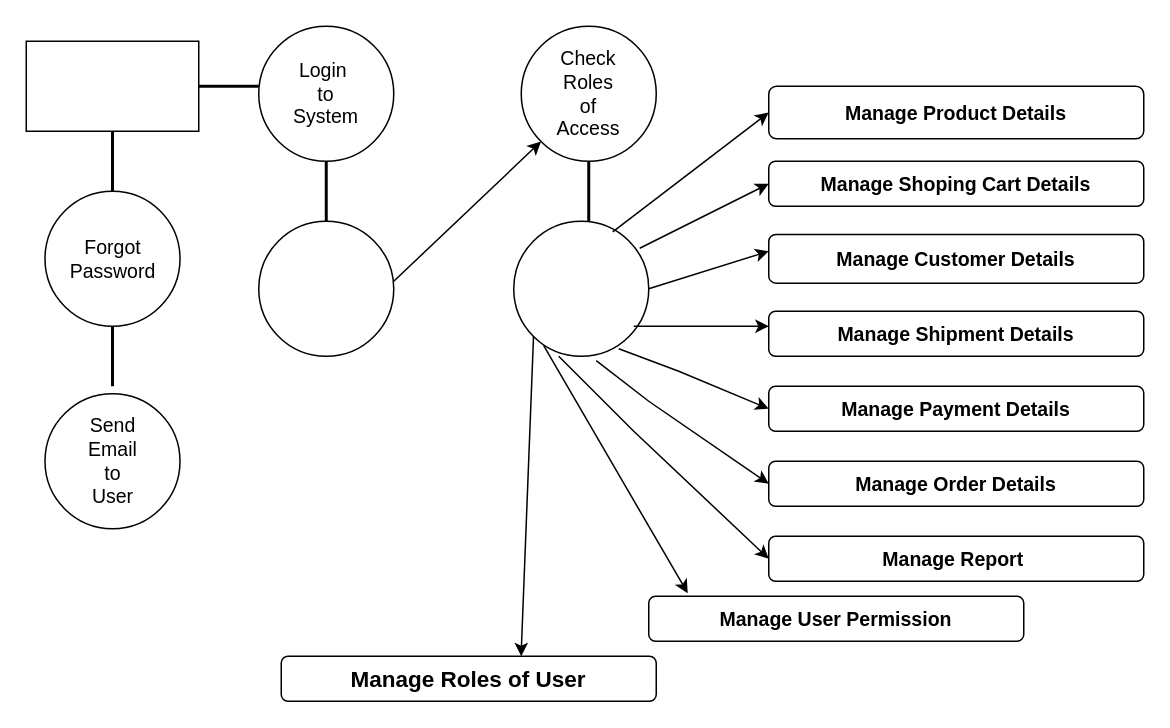
This 1170x728 diagram has some shape labels left out. Here are the shapes that lost their labels. From the top down, the centre of each, then its label:
At (112,85): "Admin".
At (325,288): "Check Credentials".
At (580,288): "Manage Modules".
